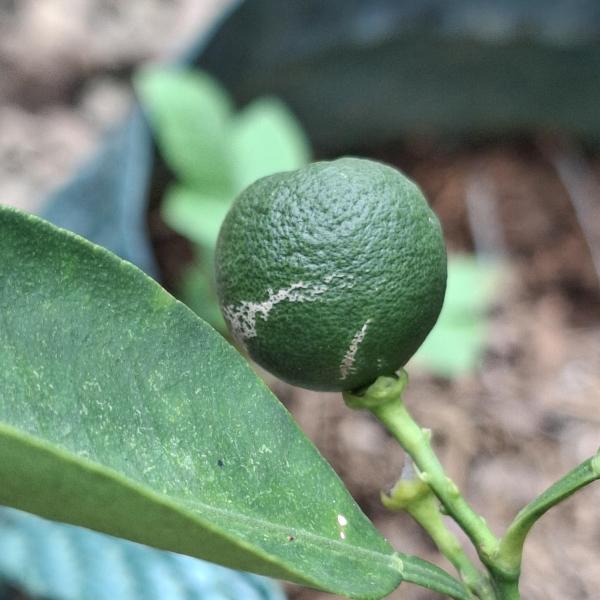Scab: (205, 151, 460, 398)
